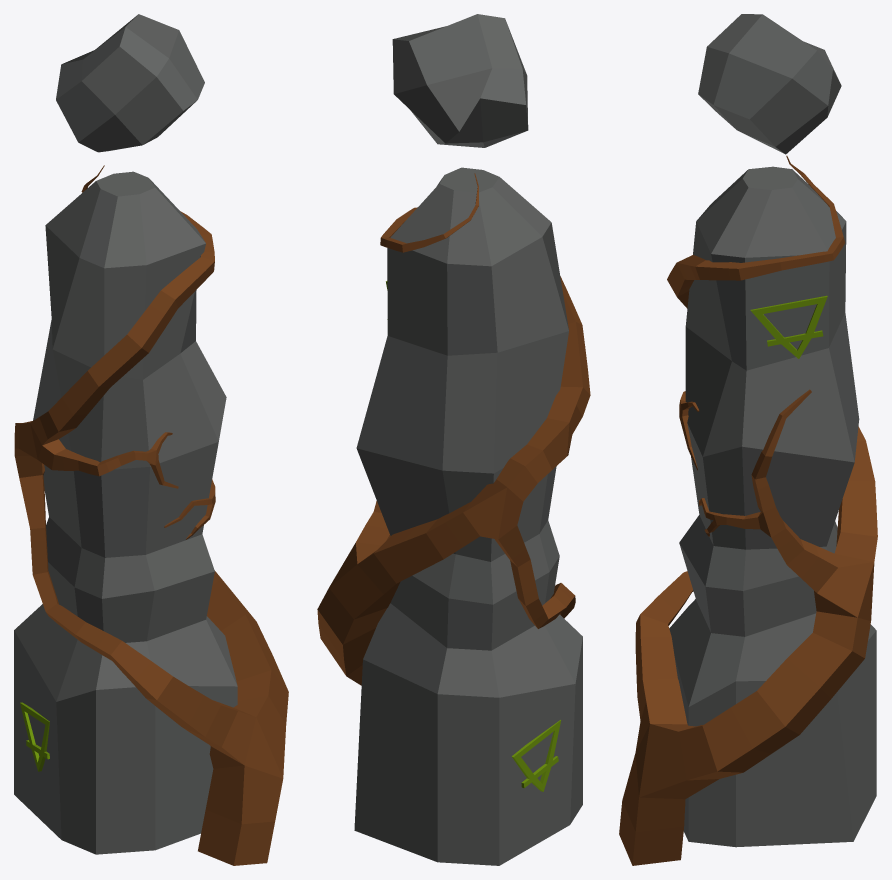
File: longRangeSTONE.fbx
3 renders of one model, left to right at view 1: azimuth 30°, elevation 25°; view 2: azimuth 150°, elevation 25°; view 3: azimuth 270°, elevation 25°, orthographic. The views are drawn at different scales.
Parts seen in each view (by area): view 1: Cube, Cube.001, flying_stone.002, Plane.001; view 2: Cube, Cube.001, flying_stone.002, Plane.001; view 3: Cube, Cube.001, flying_stone.002, Plane.
Boxes of the visible parts, box(x1,y1,x2,y2) form: Cube: box(14, 171, 237, 854); Cube.001: box(14, 165, 288, 865); flying_stone.002: box(56, 14, 204, 152); Plane.001: box(20, 702, 49, 771); Cube: box(354, 167, 582, 865); Cube.001: box(317, 173, 590, 685); flying_stone.002: box(392, 14, 528, 147); Plane.001: box(511, 720, 561, 791); Cube: box(669, 166, 876, 847); Cube.001: box(619, 155, 877, 865); flying_stone.002: box(698, 14, 841, 154); Plane: box(750, 295, 827, 358).
Size of the model in its own units: 211 by 693 by 200.
